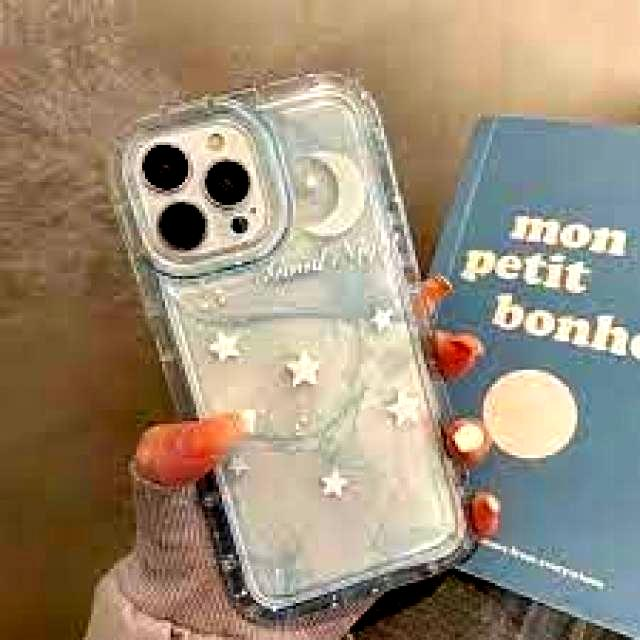lens_back: (199, 154, 263, 213), (150, 199, 215, 257), (134, 140, 198, 195)
phone: (106, 70, 477, 626)
